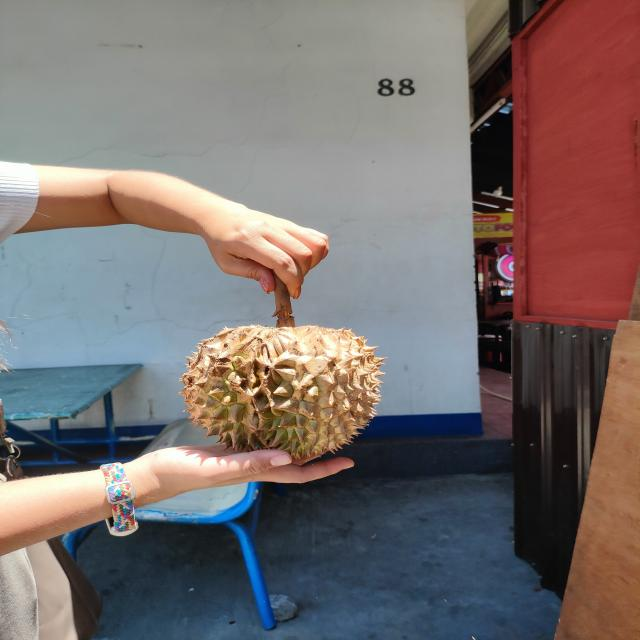mature: (178, 324, 387, 462)
